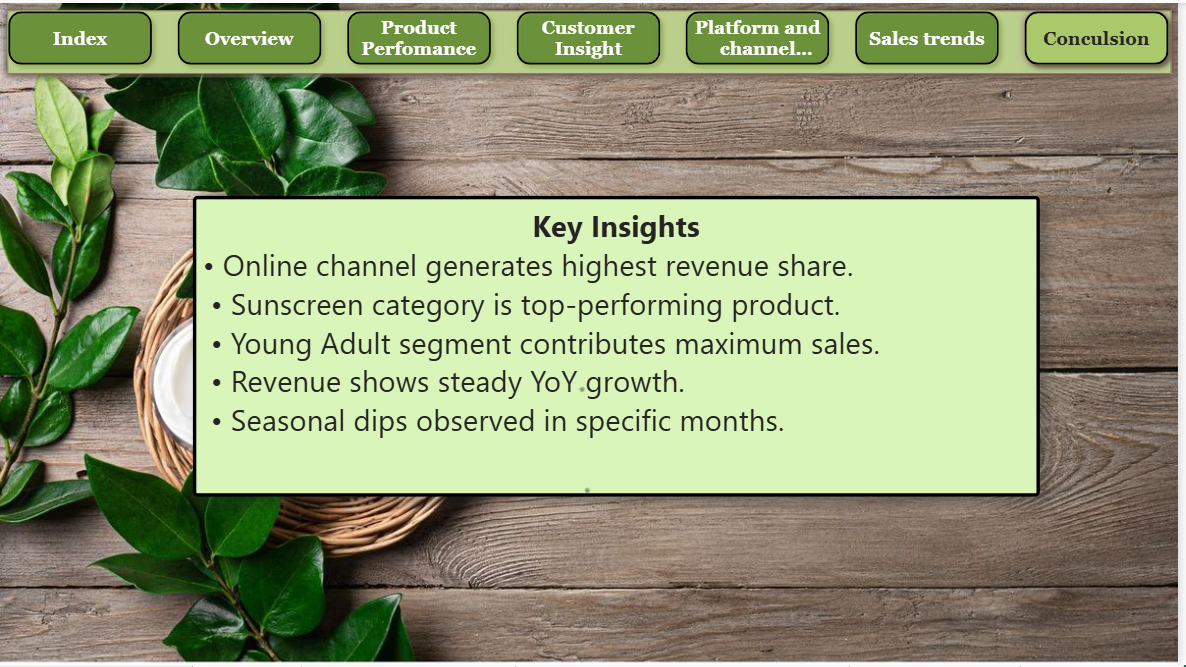

This screenshot's page, from the dashboard's own definition file:
{"tool":"powerbi","page":{"name":"Conculsion","canvas":[1280,720],"ordinal":6},"visuals":[{"type":"shape","box":[0,0,1280.4,85],"z":0},{"type":"pageNavigator","box":[0,0,1280.4,76.4],"z":1000},{"type":"textbox","box":[209.6,209.6,919.9,326.8],"z":2000}]}

Visuals, with their boxes in screenshot pixels (x1, y1, x2, y2), scaled from the page's 1280x720 canvas onto the 1186x667 screenshot:
shape: {"x1": 0, "y1": 0, "x2": 1185, "y2": 79}
pageNavigator: {"x1": 0, "y1": 0, "x2": 1185, "y2": 71}
textbox: {"x1": 194, "y1": 194, "x2": 1047, "y2": 497}
